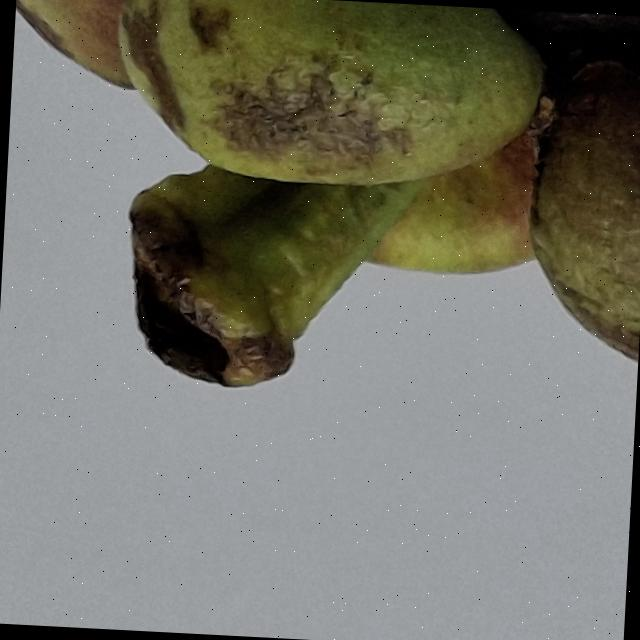mangosteen: (0, 0, 640, 581)
